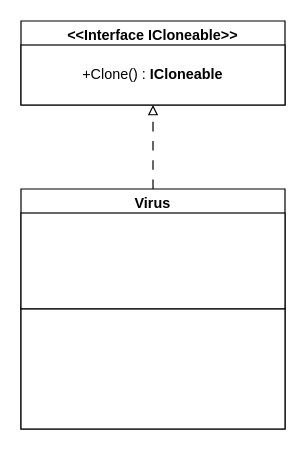
This 306x450 diagram has some shape labels left out. The centre of each missing label's shape, as x and y in pixels:
"+AddChild(Virus) +Clone() +PrintDetails" belongs at point 152,368.
"+Weight: double +Age: int +Name: string +Type: string +Chidren: List<Virus>" belongs at point 152,260.
